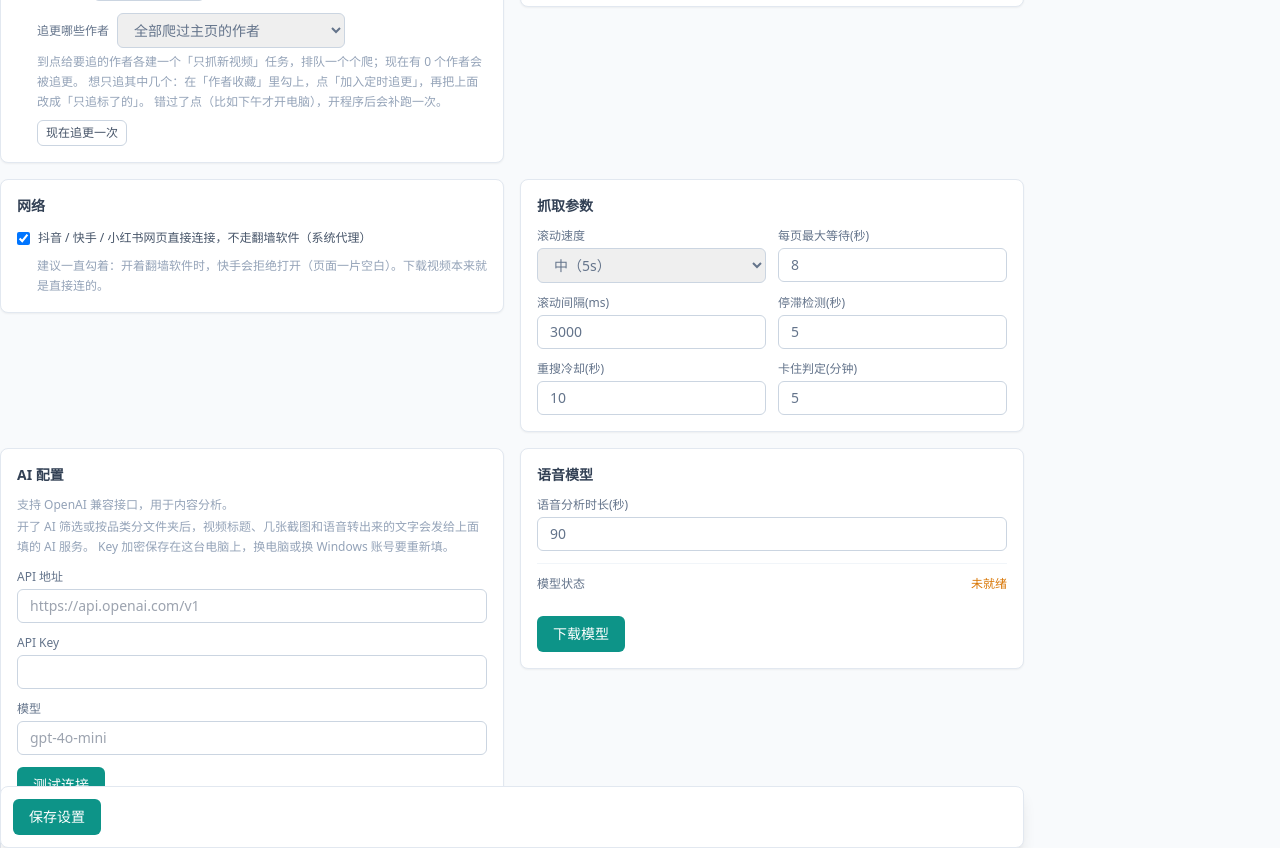
Test: SettingsPanel 分组与字段完整性 › 卡住判定填「1」→ 按 2 分钟保存，并把实际值显示回输入框
(page scrolled)
Replace the text in the number field labelled "卡住判定(分钟)" with "1" at (892,398), box top-left (778, 381), bottom-right (1007, 415)
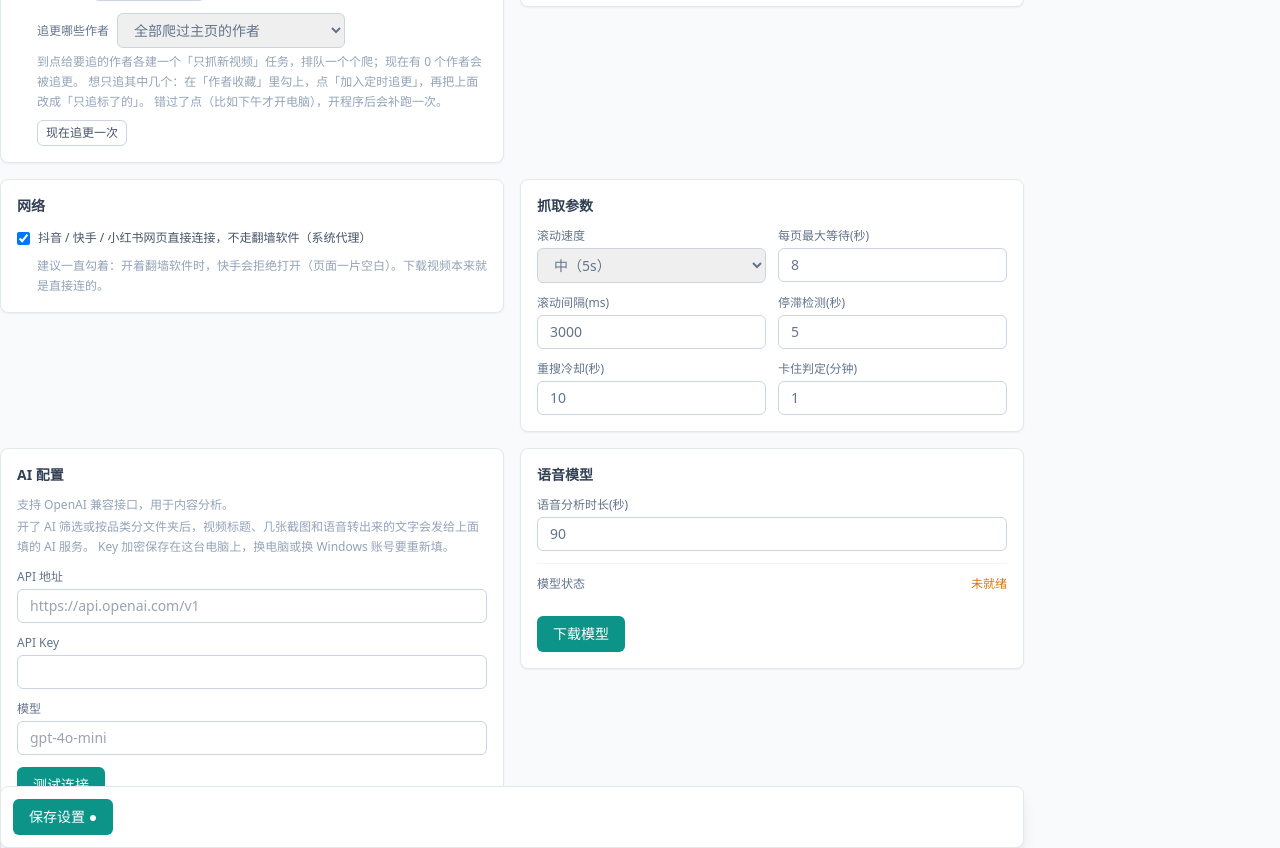
Click the button "保存设置 ●".
click(63, 817)  # box top-left (13, 799), bottom-right (113, 835)
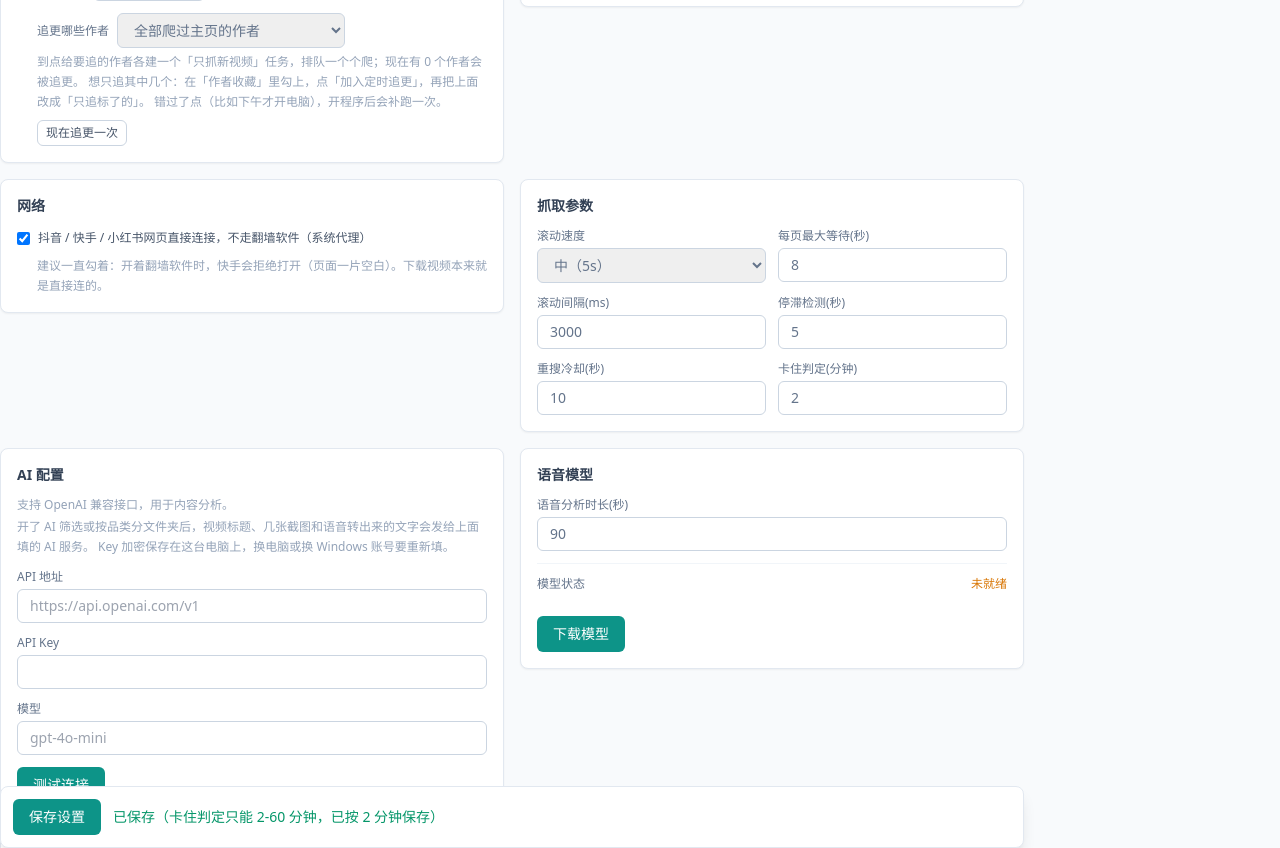
Expected: the number field labelled "卡住判定(分钟)" holds "2", top-left (778, 381), bottom-right (1007, 415)
